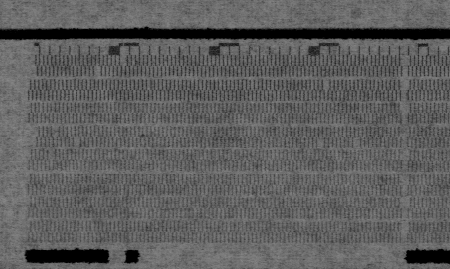Broken hole: (25, 52, 40, 78), (27, 125, 42, 149), (320, 78, 333, 93), (49, 125, 62, 139), (350, 135, 363, 149), (117, 54, 129, 69), (71, 136, 84, 149), (92, 66, 104, 80), (315, 135, 326, 149)
